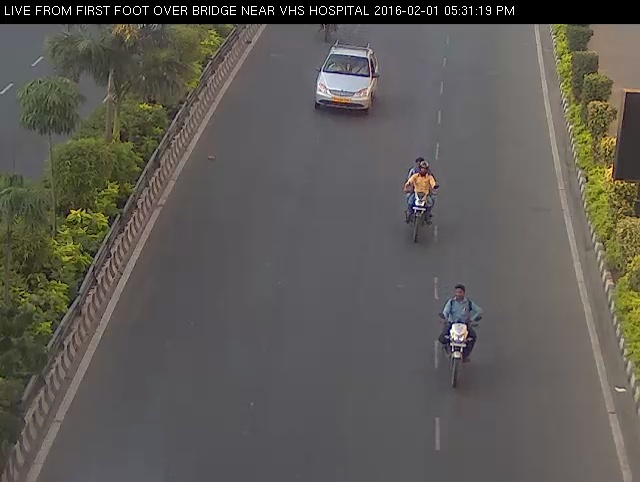Car: (309, 38, 384, 122)
Person: (428, 272, 490, 400), (388, 145, 450, 253)
